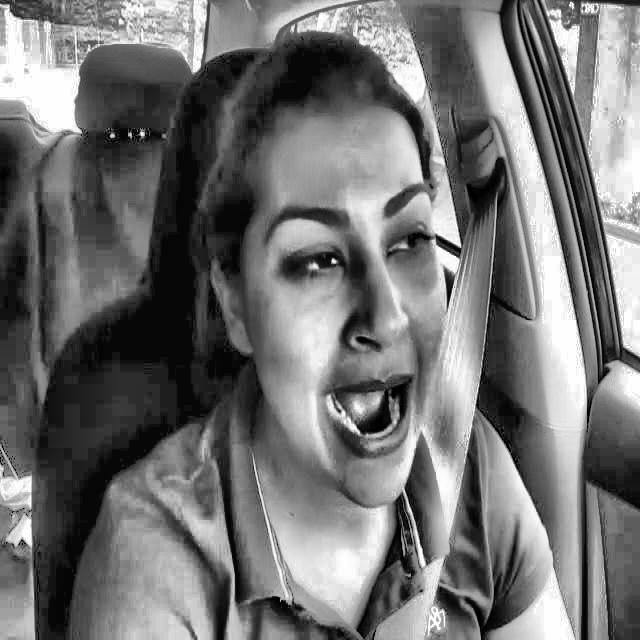open_eyes: (273, 233, 350, 293), (378, 213, 441, 276)
open_mouth: (306, 352, 427, 474)
